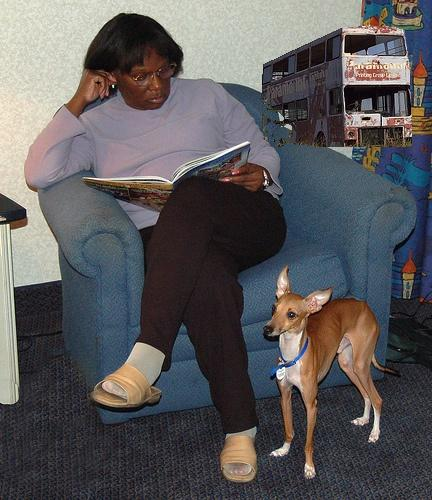tampered: (262, 26, 412, 147)
